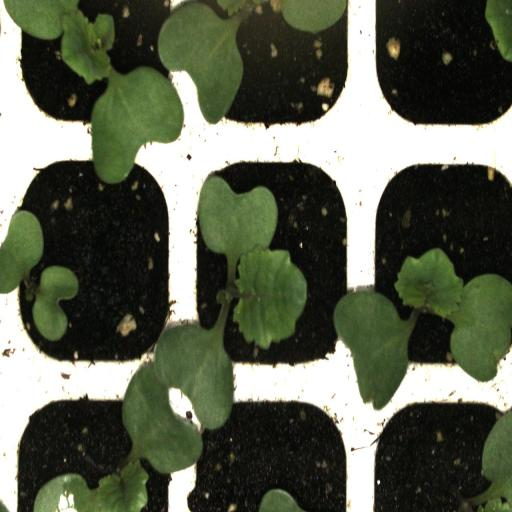seedling: (178, 149, 360, 380), (358, 149, 512, 380), (10, 0, 182, 146)
weak: (8, 150, 178, 380)
